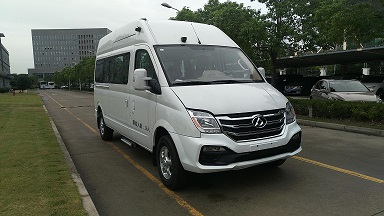midcar: (85, 10, 303, 189)
